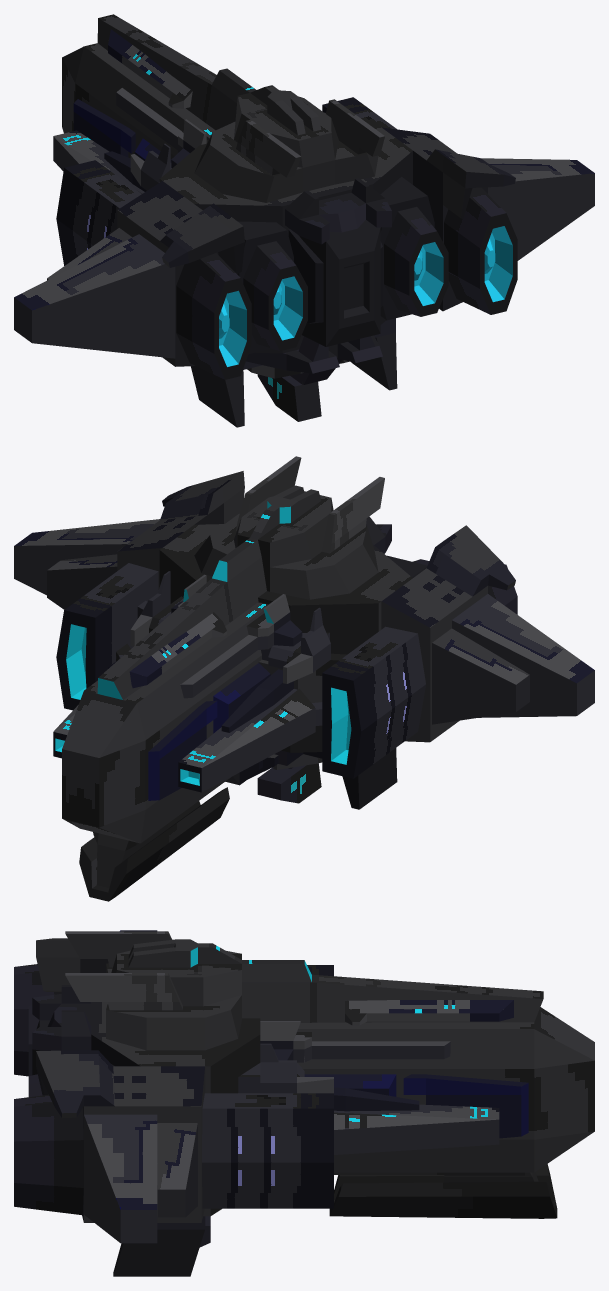
Rendered from npcShip4.glb.
3 views of the same model, one above another, from view 1: azimuth 30°, elevation 25°; view 2: azimuth 150°, elevation 25°; view 3: azimuth 270°, elevation 25° (orthographic).
Visible parts, largest first — view 1: cuboid_12, cylinder_7, cylinder_6, cylinder_46, cuboid_11, cylinder_48, cuboid_14, beveled_cuboid_8, cuboid_61, cylinder_49, cuboid_16, cylinder_47 (+18 smaller); view 2: beveled_cuboid_8, cuboid_29, cylinder_6, cuboid_11, cylinder_7, cuboid_12, cuboid_32, cuboid_42, cuboid_10, cuboid_31, cuboid_16, cuboid_14 (+17 smaller); view 3: beveled_cuboid_8, cuboid_32, cuboid_16, cuboid_42, cuboid_14, tube_0, cylinder_6, cylinder_48, cuboid_34, cylinder_7, cuboid_59, cuboid_20 (+13 smaller).
Boxes of the visible parts, x1,y1,x2,y2 form: cuboid_12: (14, 234, 175, 358); cylinder_7: (159, 125, 412, 353); cylinder_6: (194, 93, 378, 202); cylinder_46: (176, 253, 251, 379); cuboid_11: (117, 181, 244, 366); cylinder_48: (444, 187, 517, 314); cuboid_14: (481, 158, 594, 260); beveled_cuboid_8: (62, 43, 215, 158); cuboid_61: (191, 318, 397, 427); cylinder_49: (384, 207, 448, 316); cuboid_16: (382, 127, 515, 311); cylinder_47: (243, 241, 307, 351); beveled_cuboid_8: (62, 602, 268, 843); cuboid_29: (322, 626, 425, 778); cylinder_6: (194, 491, 378, 599); cuboid_11: (381, 525, 515, 742); cylinder_7: (159, 524, 412, 752); cuboid_12: (452, 594, 594, 717); cuboid_32: (56, 563, 158, 710); cuboid_42: (97, 538, 266, 699); cuboid_10: (432, 628, 529, 724); cuboid_31: (178, 688, 315, 792); cuboid_16: (117, 471, 244, 589); cuboid_14: (14, 519, 160, 595); beveled_cuboid_8: (297, 1007, 594, 1172); cuboid_32: (202, 1093, 333, 1208); cuboid_16: (36, 1050, 205, 1222); cuboid_42: (242, 960, 543, 1022); cuboid_14: (84, 1114, 157, 1243); tube_0: (329, 1164, 557, 1218); cylinder_6: (106, 950, 241, 1050); cylinder_48: (14, 1094, 83, 1215); cuboid_34: (334, 1104, 499, 1154); cylinder_7: (32, 1002, 260, 1216); cuboid_59: (260, 1021, 450, 1062); cuboid_20: (403, 1074, 528, 1138).
Bounding box in the file's own units: 22.5 × 11.56 × 19.75.
6 materials, 6 textured.
